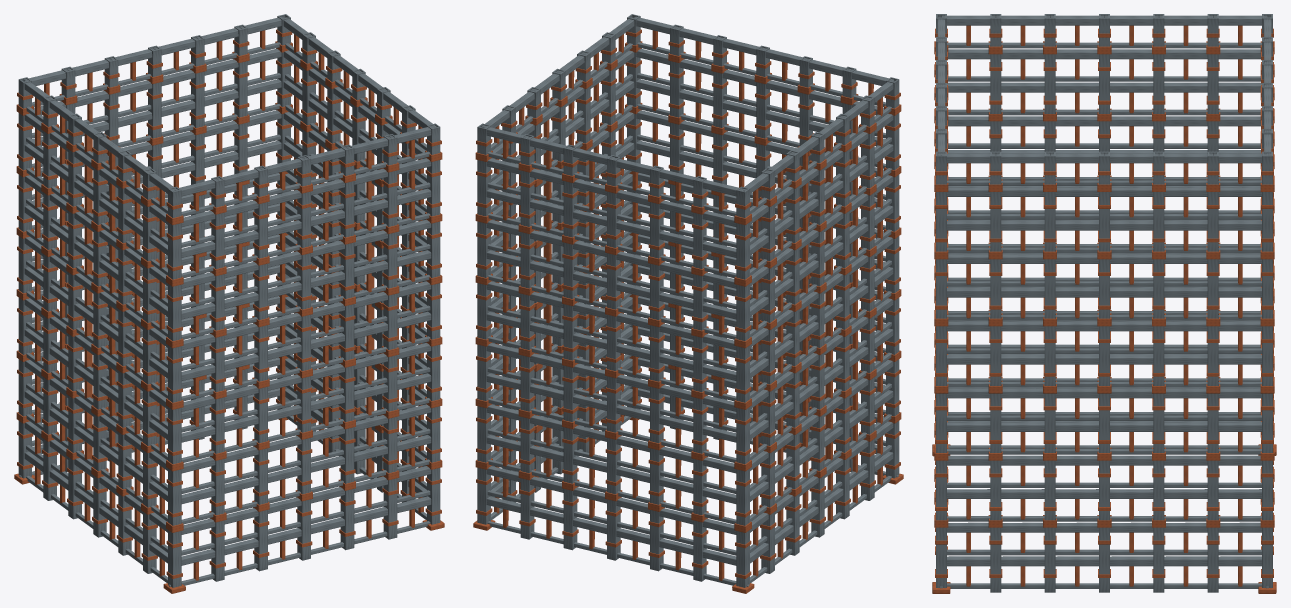
The picture shows the model from 3 angles, left to right: view 1: azimuth 30°, elevation 25°; view 2: azimuth 150°, elevation 25°; view 3: azimuth 270°, elevation 25°; orthographic projection. The views are drawn at different scales.
Visible parts, largest first — view 1: Tier 0 side 0 post 4, Tier 0 side 0 post 5, Tier 3 side 0 post 0, Tier 0 side 0 post 0, Tier 1 side 0 post 0, Tier 4 side 0 post 0, Tier 2 side 0 post 0, Tier 5 side 0 post 0, Tier 0 side 0 post 1, Tier 0 side 0 post 2, Tier 0 side 0 post 3, Tier 3 side 0 post 4 (+38 smaller); view 2: Tier 0 side 2 post 2, Tier 0 side 2 post 1, Tier 3 side 3 post 0, Tier 0 side 3 post 0, Tier 4 side 3 post 0, Tier 1 side 3 post 0, Tier 2 side 3 post 0, Tier 5 side 3 post 0, Tier 0 side 2 post 5, Tier 0 side 2 post 4, Tier 0 side 2 post 3, Tier 4 side 2 post 1 (+38 smaller); view 3: Tier 0 side 1 post 1, Tier 0 side 1 post 2, Tier 0 side 1 post 4, Tier 0 side 1 post 5, Tier 0 side 1 post 3, Tier 1 side 1 post 1, Tier 1 side 1 post 2, Tier 1 side 1 post 4, Tier 1 side 1 post 5, Tier 3 side 1 post 1, Tier 3 side 1 post 2, Tier 3 side 1 post 4 (+101 smaller).
Boxes of the visible parts, x1,y1,x2,y2 form: Tier 0 side 0 post 4: [340, 489, 354, 550]; Tier 0 side 0 post 5: [383, 478, 397, 539]; Tier 3 side 0 post 0: [168, 345, 181, 402]; Tier 0 side 0 post 0: [168, 530, 181, 587]; Tier 1 side 0 post 0: [168, 468, 181, 525]; Tier 4 side 0 post 0: [168, 284, 181, 340]; Tier 2 side 0 post 0: [168, 407, 181, 464]; Tier 5 side 0 post 0: [168, 222, 181, 279]; Tier 0 side 0 post 1: [211, 520, 224, 581]; Tier 0 side 0 post 2: [254, 510, 267, 571]; Tier 0 side 0 post 3: [297, 499, 310, 560]; Tier 3 side 0 post 4: [340, 304, 354, 360]; Tier 0 side 2 post 2: [563, 489, 577, 550]; Tier 0 side 2 post 1: [520, 478, 534, 539]; Tier 3 side 3 post 0: [736, 345, 749, 402]; Tier 0 side 3 post 0: [736, 530, 749, 587]; Tier 4 side 3 post 0: [736, 284, 749, 340]; Tier 1 side 3 post 0: [736, 468, 749, 525]; Tier 2 side 3 post 0: [736, 407, 749, 464]; Tier 5 side 3 post 0: [736, 222, 749, 279]; Tier 0 side 2 post 5: [693, 520, 706, 581]; Tier 0 side 2 post 4: [650, 510, 663, 571]; Tier 0 side 2 post 3: [607, 499, 620, 560]; Tier 4 side 2 post 1: [520, 232, 534, 288]; Tier 0 side 1 post 1: [990, 527, 1001, 592]; Tier 0 side 1 post 2: [1044, 527, 1055, 592]; Tier 0 side 1 post 4: [1153, 527, 1164, 592]; Tier 0 side 1 post 5: [1207, 527, 1218, 592]; Tier 0 side 1 post 3: [1099, 527, 1109, 592]; Tier 1 side 1 post 1: [990, 460, 1001, 520]; Tier 1 side 1 post 2: [1044, 460, 1055, 520]; Tier 1 side 1 post 4: [1153, 460, 1164, 520]; Tier 1 side 1 post 5: [1207, 460, 1218, 520]; Tier 3 side 1 post 1: [990, 326, 1001, 385]; Tier 3 side 1 post 2: [1044, 326, 1055, 385]; Tier 3 side 1 post 4: [1153, 326, 1164, 385].
Size of the model in its own units: 2.85 by 3.99 by 2.85.
2 materials, 2 textured.
